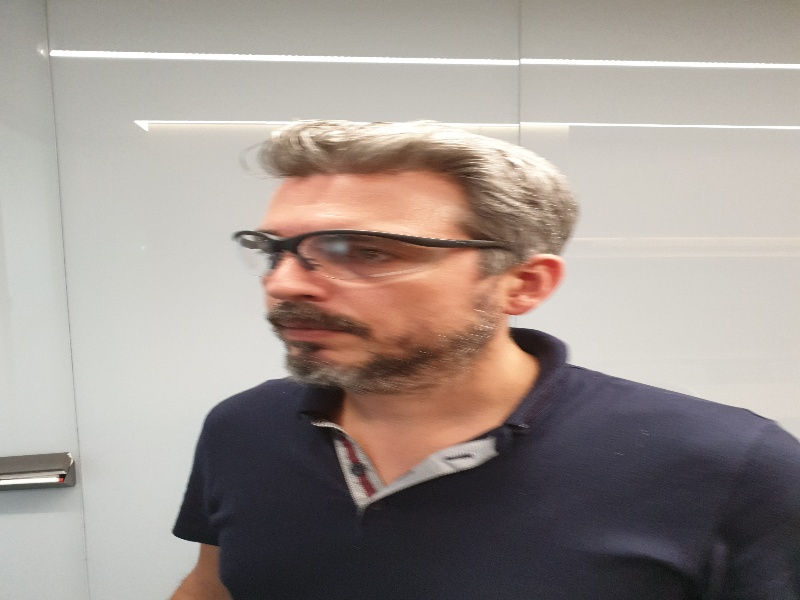Gozluk: (234, 228, 506, 281)
